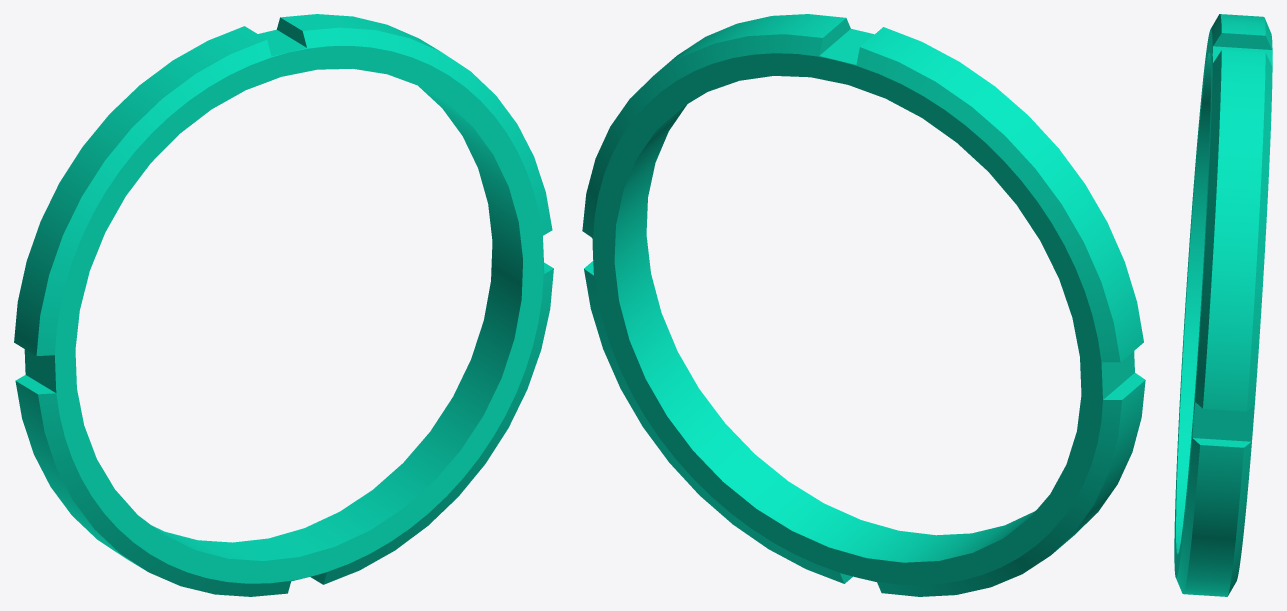
The picture shows the model from 3 angles, left to right: view 1: azimuth 30°, elevation 25°; view 2: azimuth 150°, elevation 25°; view 3: azimuth 270°, elevation 25°; orthographic projection. The views are drawn at different scales.
Parts seen in each view (by area): view 1: 0C6E641F3DC18749666DF3C59C03E7384C05AFCA|:|2252D0CB47CA_a042; view 2: 0C6E641F3DC18749666DF3C59C03E7384C05AFCA|:|2252D0CB47CA_a042; view 3: 0C6E641F3DC18749666DF3C59C03E7384C05AFCA|:|2252D0CB47CA_a042.
Boxes of the visible parts, <box> form: 0C6E641F3DC18749666DF3C59C03E7384C05AFCA|:|2252D0CB47CA_a042: <box>14,14,553,596</box>; 0C6E641F3DC18749666DF3C59C03E7384C05AFCA|:|2252D0CB47CA_a042: <box>582,14,1145,596</box>; 0C6E641F3DC18749666DF3C59C03E7384C05AFCA|:|2252D0CB47CA_a042: <box>1174,14,1272,596</box>.
Bounding box in the file's own units: 72.63 × 72.83 × 12.28.
